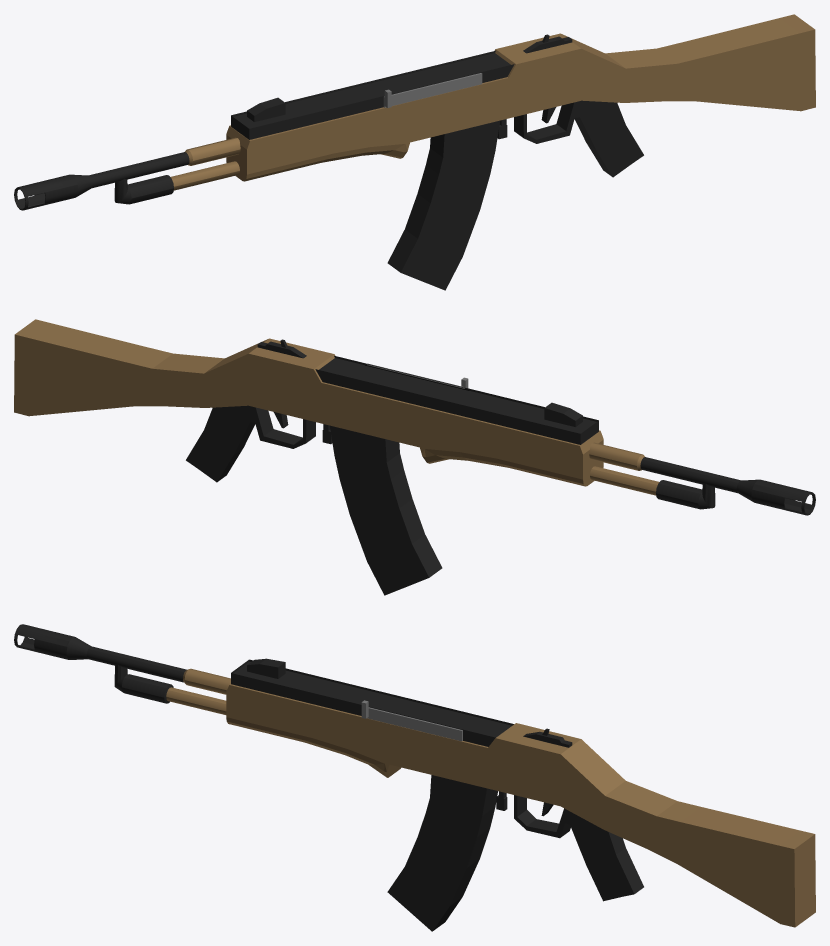
File: BattleRifle.fbx
The picture shows the model from 3 angles, top to bottom: view 1: azimuth 30°, elevation 25°; view 2: azimuth 150°, elevation 25°; view 3: azimuth 330°, elevation 25°; orthographic projection.
Parts seen in each view (by area): view 1: Main Body, Mag, Cube, Grip, Barrel, Cube.001, Sights and stuff, Gas Tube, Barrel pt 2; view 2: Main Body, Mag, Cube, Grip, Barrel, Sights and stuff, Gas Tube, Barrel pt 2; view 3: Main Body, Mag, Cube, Grip, Barrel, Cube.001, Sights and stuff, Gas Tube, Barrel pt 2.
Boxes of the visible parts, x1=… form: Main Body: x1=226, y1=14, x2=815, y2=181; Mag: x1=387, y1=120, x2=499, y2=290; Cube: x1=231, y1=50, x2=514, y2=139; Grip: x1=514, y1=100, x2=643, y2=177; Barrel: x1=14, y1=152, x2=189, y2=210; Cube.001: x1=383, y1=73, x2=482, y2=107; Sights and stuff: x1=247, y1=34, x2=572, y2=121; Gas Tube: x1=170, y1=161, x2=239, y2=190; Barrel pt 2: x1=185, y1=137, x2=240, y2=165; Main Body: x1=14, y1=319, x2=603, y2=486; Mag: x1=330, y1=425, x2=442, y2=595; Cube: x1=315, y1=355, x2=598, y2=444; Grip: x1=186, y1=405, x2=315, y2=482; Barrel: x1=640, y1=457, x2=815, y2=515; Sights and stuff: x1=257, y1=339, x2=582, y2=426; Gas Tube: x1=590, y1=466, x2=659, y2=495; Barrel pt 2: x1=589, y1=442, x2=644, y2=470; Main Body: x1=226, y1=684, x2=815, y2=927; Mag: x1=387, y1=775, x2=497, y2=931; Cube: x1=231, y1=659, x2=513, y2=746; Grip: x1=514, y1=795, x2=643, y2=901; Barrel: x1=14, y1=624, x2=186, y2=703; Cube.001: x1=361, y1=700, x2=462, y2=741; Sights and stuff: x1=247, y1=658, x2=572, y2=747; Gas Tube: x1=166, y1=687, x2=226, y2=714; Barrel pt 2: x1=183, y1=668, x2=230, y2=694.
Size of the model in its own units: 849 by 231 by 43.76.
